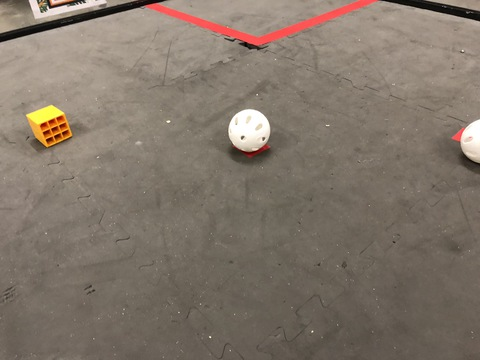ball: (205, 106, 282, 164), (451, 114, 480, 171)
block: (20, 102, 81, 153)
